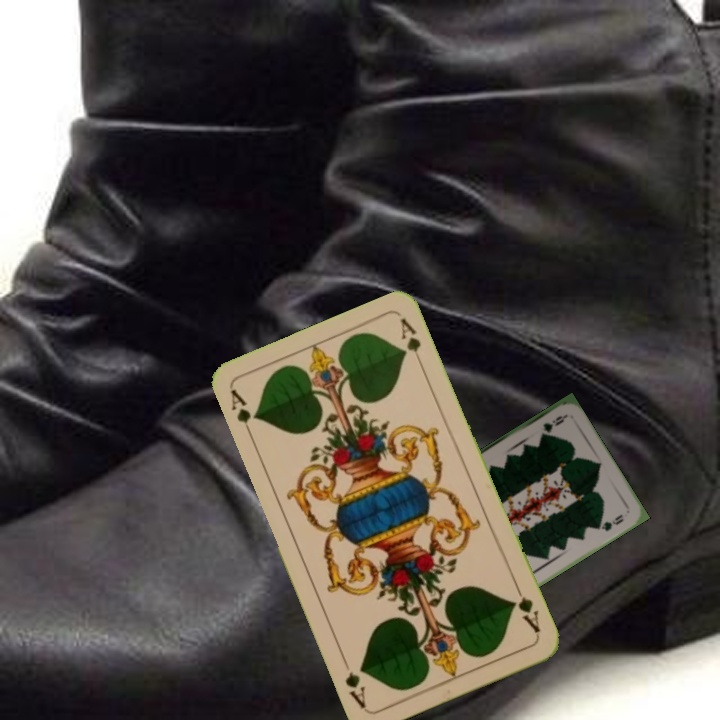G9: (536, 411, 568, 438)
GA: (508, 581, 543, 636), (227, 385, 260, 442)
